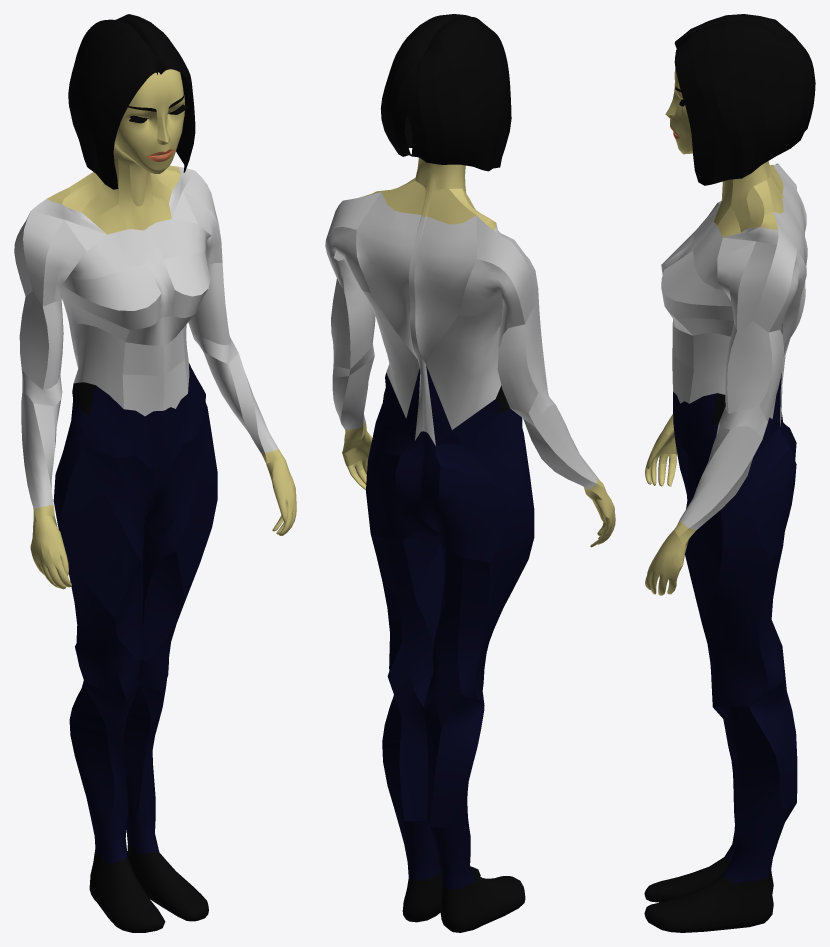
Rendered from ojos cerrados.obj.
3 renders of one model, left to right at view 1: azimuth 30°, elevation 25°; view 2: azimuth 150°, elevation 25°; view 3: azimuth 270°, elevation 25°, orthographic. The views are drawn at different scales.
Visible parts, largest first — view 1: Piel.006; view 2: Piel.006; view 3: Piel.006.
Part boxes in pixels (left/top/right/bottom): Piel.006: left=14, top=14, right=296, bottom=932; Piel.006: left=325, top=14, right=615, bottom=932; Piel.006: left=644, top=14, right=815, bottom=932.
Bounding box in the file's own units: 1.02 × 3.26 × 0.5661.
